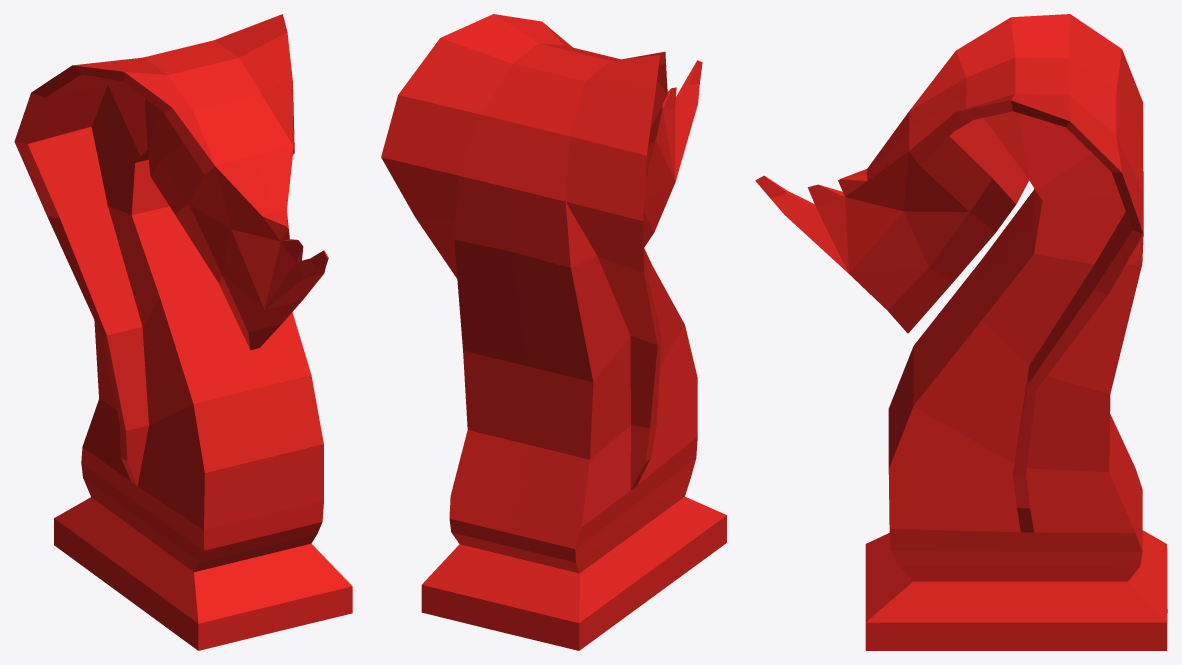
File: red_nak.gltf
The picture shows the model from 3 angles, left to right: view 1: azimuth 30°, elevation 25°; view 2: azimuth 150°, elevation 25°; view 3: azimuth 270°, elevation 25°; orthographic projection. The views are drawn at different scales.
Parts seen in each view (by area): view 1: Nakra.r; view 2: Nakra.r; view 3: Nakra.r.
Boxes of the visible parts, x1,y1,x2,y2 form: Nakra.r: [14, 14, 352, 650]; Nakra.r: [381, 14, 726, 650]; Nakra.r: [755, 14, 1167, 650].
Bounding box in the file's own units: 0.7194 × 1.42 × 0.9595.
Materials: 1 (1 with a texture image).
